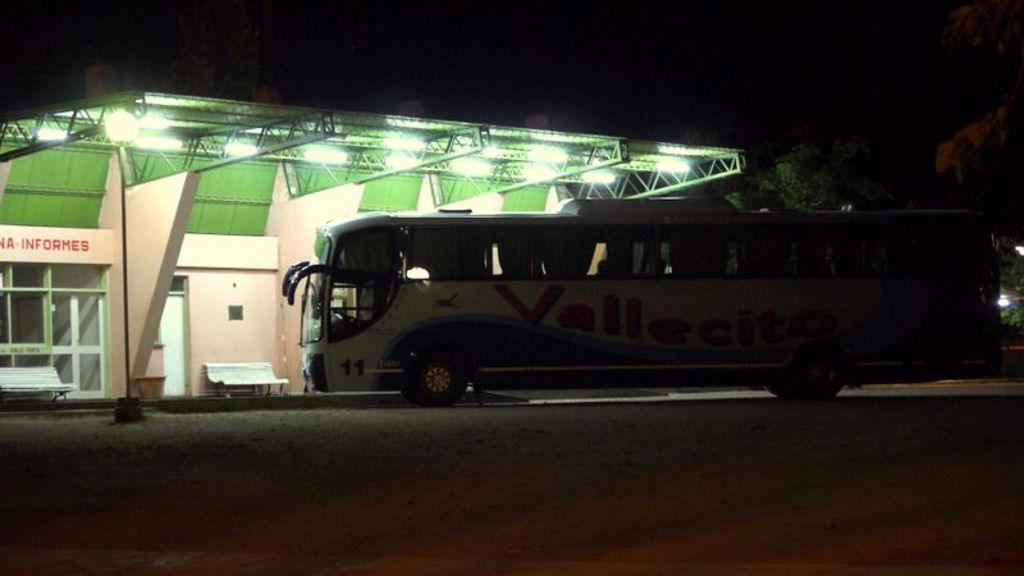Bus: (281, 198, 1003, 409)
